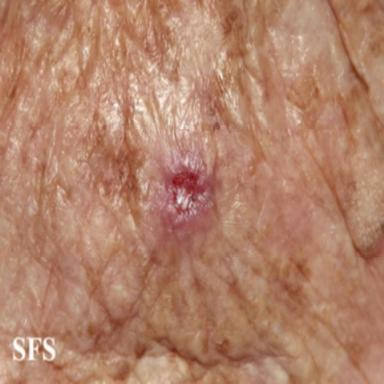basal-cell-carcinoma: (150, 138, 221, 247)
